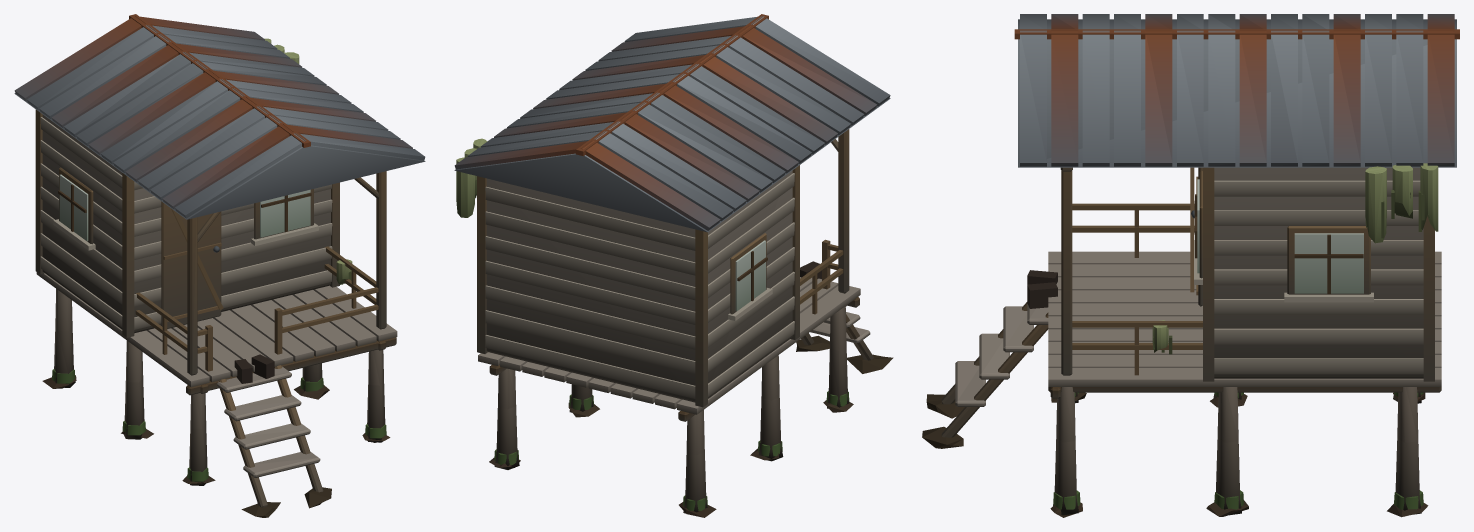
The model's file is stilt-shack.glb.
The picture shows the model from 3 angles, left to right: view 1: azimuth 30°, elevation 25°; view 2: azimuth 150°, elevation 25°; view 3: azimuth 270°, elevation 25°; orthographic projection. The views are drawn at different scales.
Parts seen in each view (by area): view 1: stilt_shack; view 2: stilt_shack; view 3: stilt_shack.
Part boxes in pixels (bbox=[...]): stilt_shack: bbox=[14, 14, 425, 517]; stilt_shack: bbox=[454, 14, 893, 517]; stilt_shack: bbox=[922, 14, 1459, 517].
Bounding box in the file's own units: 3.64 × 4.61 × 5.27.
